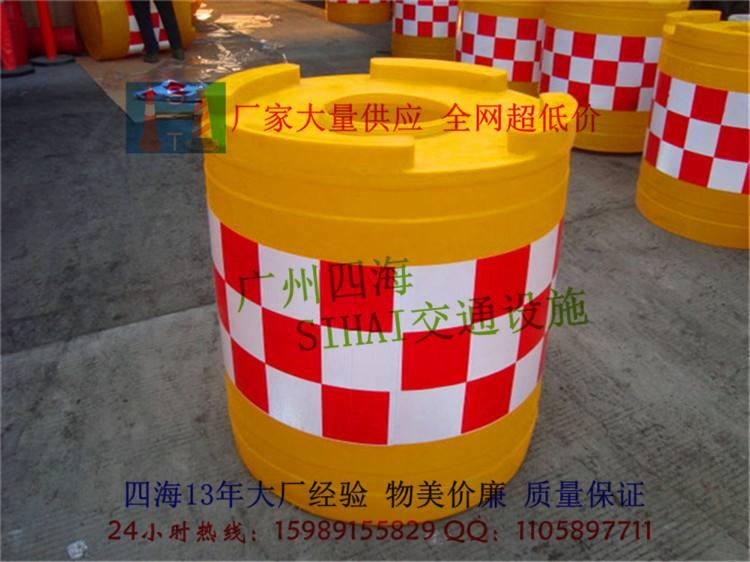sign: (169, 42, 582, 534)
